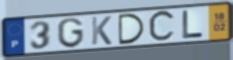3: (28, 20, 52, 51)
C: (147, 8, 178, 45)
D: (116, 12, 147, 46)
G: (56, 16, 86, 49)
K: (90, 15, 113, 46)
L: (181, 9, 205, 40)
